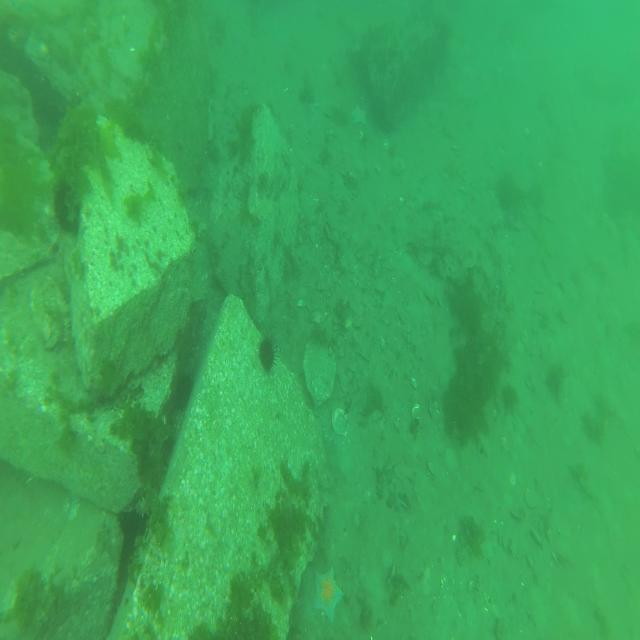echinus: (52, 177, 81, 236), (256, 328, 279, 376), (174, 372, 194, 411)
holothurian: (135, 496, 153, 518), (63, 317, 71, 343)
scallop: (331, 405, 351, 439)
starfish: (313, 563, 345, 623), (350, 104, 368, 125)
